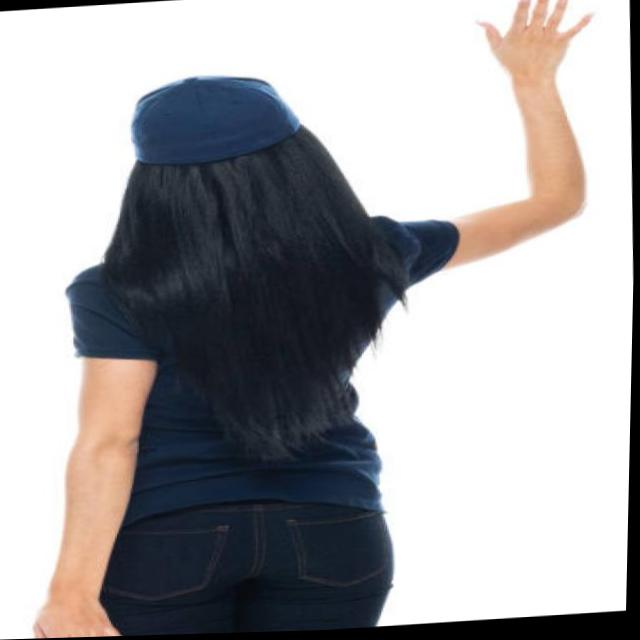no helmet: (95, 66, 389, 256)
